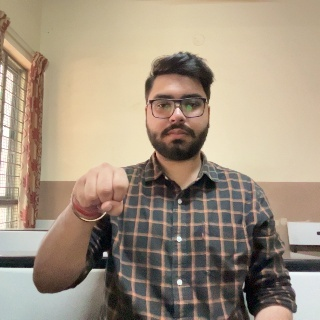Face: (144, 66, 209, 162)
Yes: (70, 157, 127, 234)
